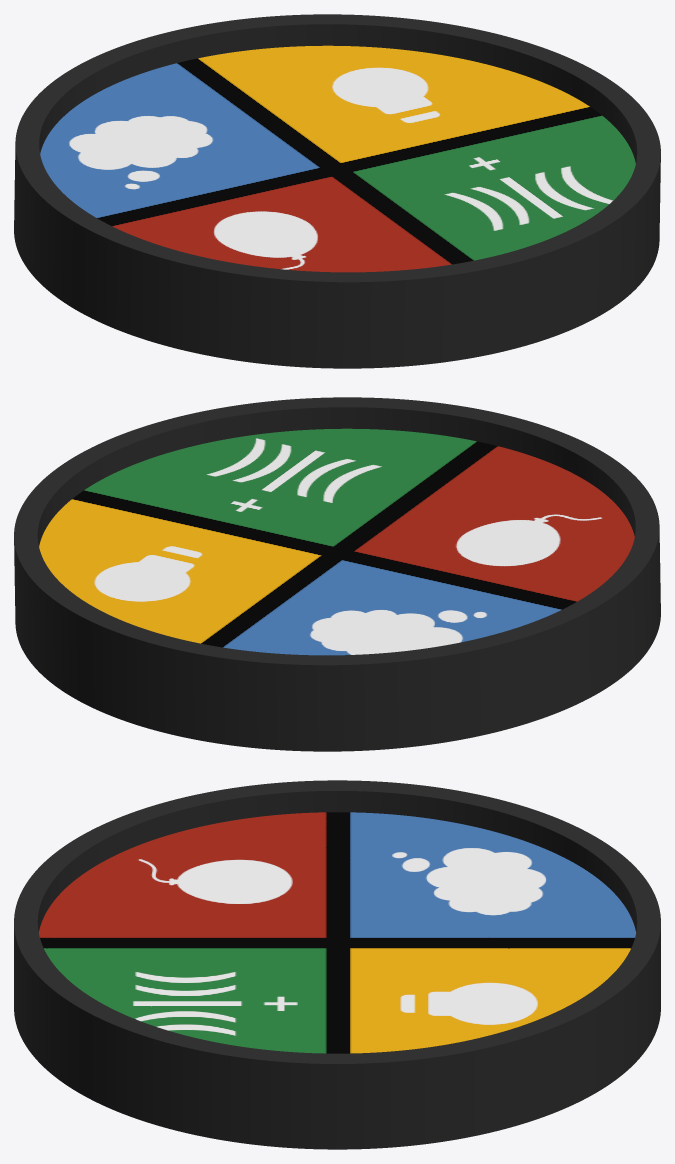
The model's file is MoedaCerrado_A.glb.
The picture shows the model from 3 angles, top to bottom: view 1: azimuth 30°, elevation 25°; view 2: azimuth 150°, elevation 25°; view 3: azimuth 270°, elevation 25°; orthographic projection.
Visible parts, largest first — view 1: Cylinder; view 2: Cylinder; view 3: Cylinder.
Boxes of the visible parts, box(x1,y1,x2,y2) form: Cylinder: box(14, 14, 660, 368); Cylinder: box(14, 397, 660, 751); Cylinder: box(14, 780, 660, 1149).
Bounding box in the file's own units: 6.82 × 1.12 × 6.8.
Materials: 2 (1 with a texture image).
